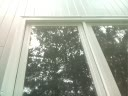window: (29, 24, 81, 96), (106, 24, 128, 72)
